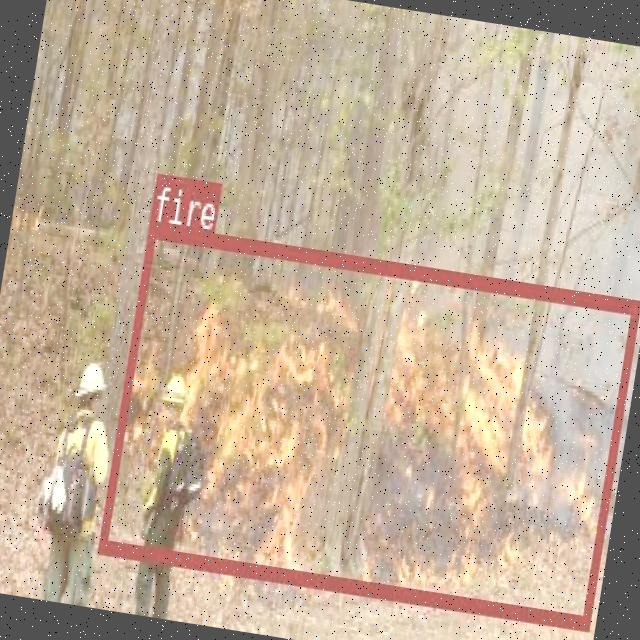fire: (98, 222, 640, 627)
